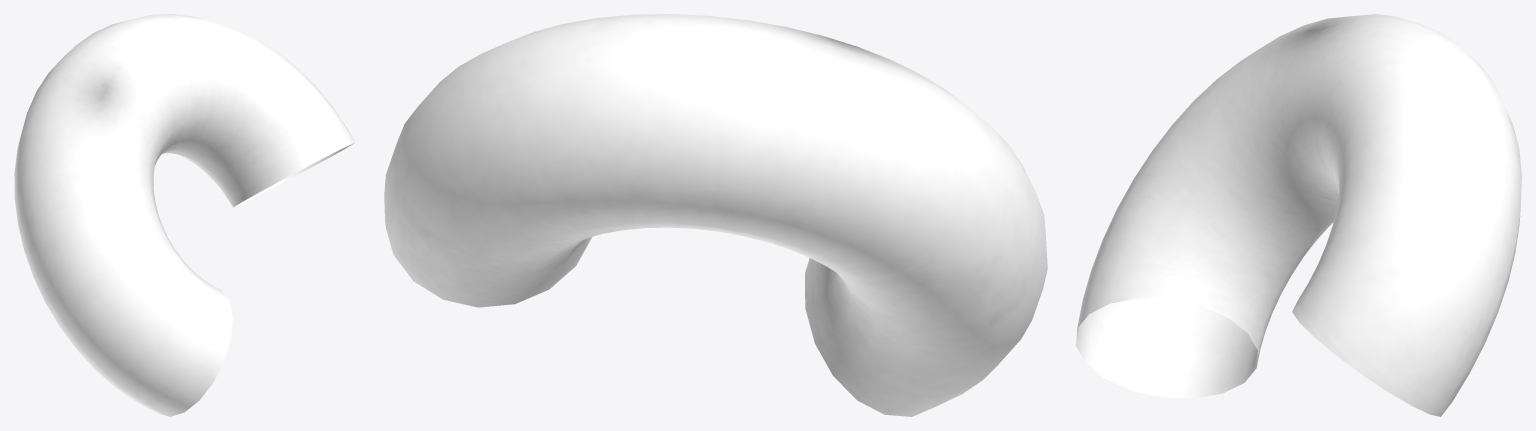
The model's file is donut_R.gltf.
3 views of the same model, side by side, from view 1: azimuth 30°, elevation 25°; view 2: azimuth 150°, elevation 25°; view 3: azimuth 270°, elevation 25° (orthographic). The views are drawn at different scales.
Parts seen in each view (by area): view 1: Torus.002; view 2: Torus.002; view 3: Torus.002.
Part boxes in pixels (x1=…): Torus.002: x1=14, y1=14, x2=355, y2=416; Torus.002: x1=384, y1=14, x2=1047, y2=416; Torus.002: x1=1076, y1=14, x2=1521, y2=416.
Size of the model in its own units: 1.1 by 0.8774 by 0.888.
1 material, 1 textured.
